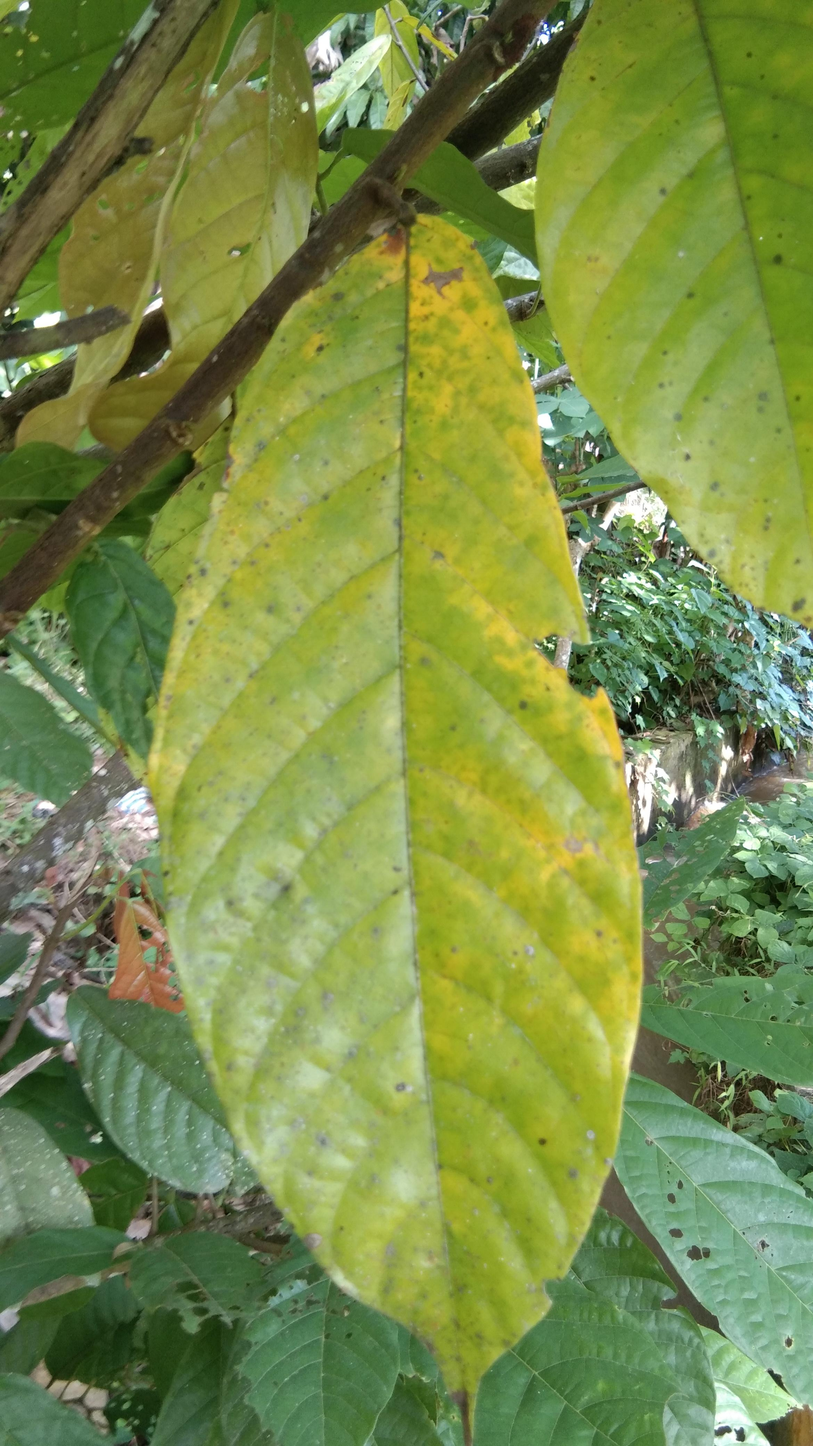deficiencia_potasio: (170, 198, 636, 1397)
